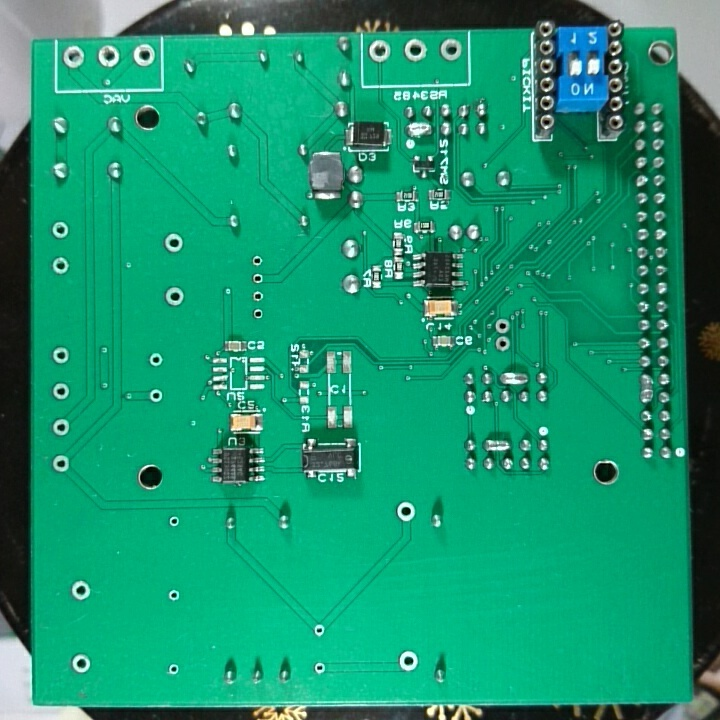F: (59, 43, 88, 74), (401, 36, 430, 66), (131, 42, 157, 71), (366, 39, 394, 65), (97, 43, 122, 72), (68, 578, 95, 603), (394, 649, 422, 673), (48, 450, 73, 476), (438, 36, 461, 64), (161, 230, 186, 255), (162, 284, 187, 308), (394, 498, 417, 524), (49, 416, 72, 439), (48, 219, 71, 242), (49, 253, 71, 277), (50, 343, 71, 368), (70, 652, 91, 675), (50, 380, 71, 402), (491, 335, 514, 355), (145, 386, 166, 406), (163, 586, 184, 605), (493, 316, 513, 335), (311, 619, 328, 641), (145, 349, 163, 369), (248, 251, 267, 269), (310, 658, 328, 676), (249, 305, 267, 323), (165, 512, 182, 531), (249, 270, 268, 287), (248, 289, 268, 303), (164, 662, 180, 677)
P: (480, 435, 515, 455), (497, 369, 531, 389), (638, 371, 657, 406), (403, 120, 436, 138)
